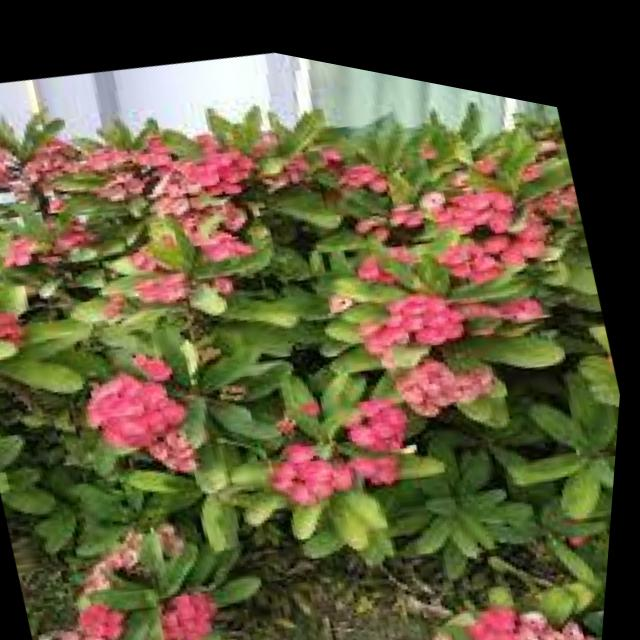Flower: (78, 345, 207, 459), (388, 313, 532, 415), (129, 117, 247, 224), (348, 249, 468, 354)
